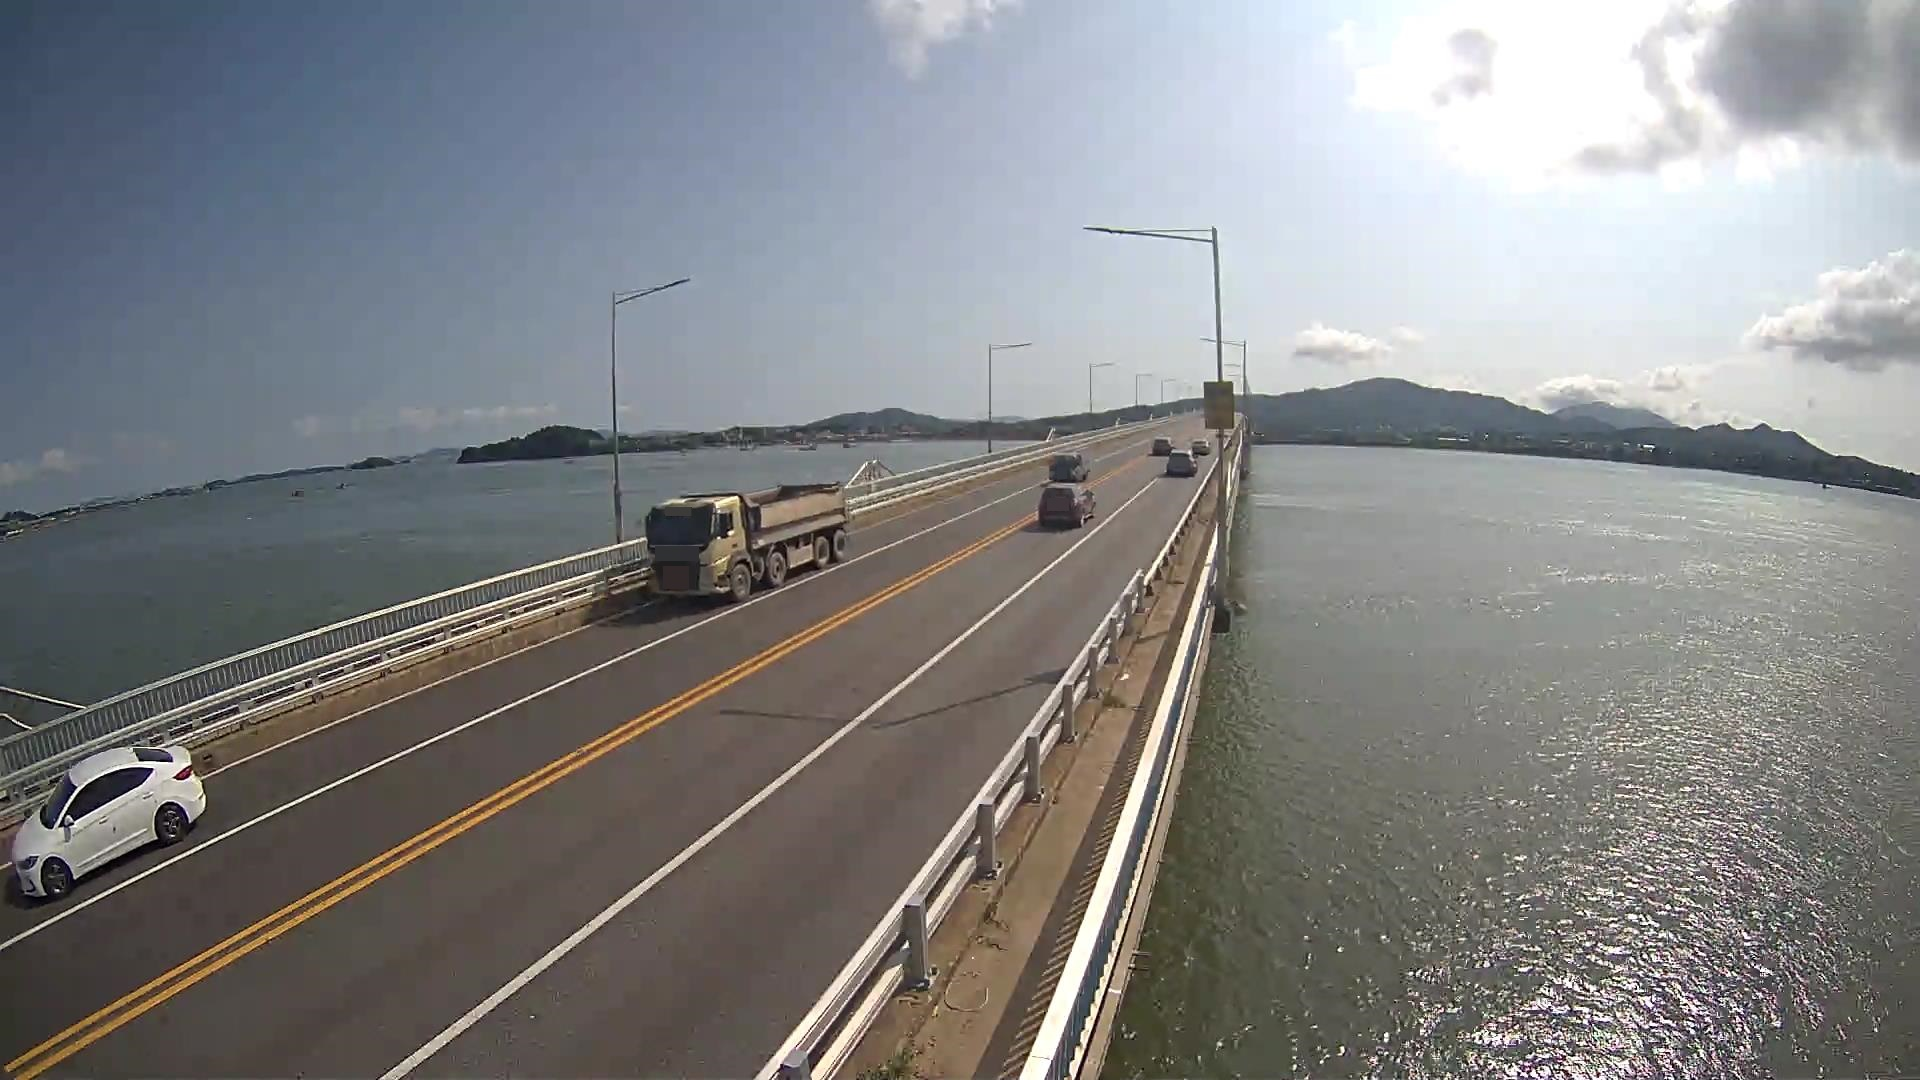정상차량: (634, 481, 850, 604)
